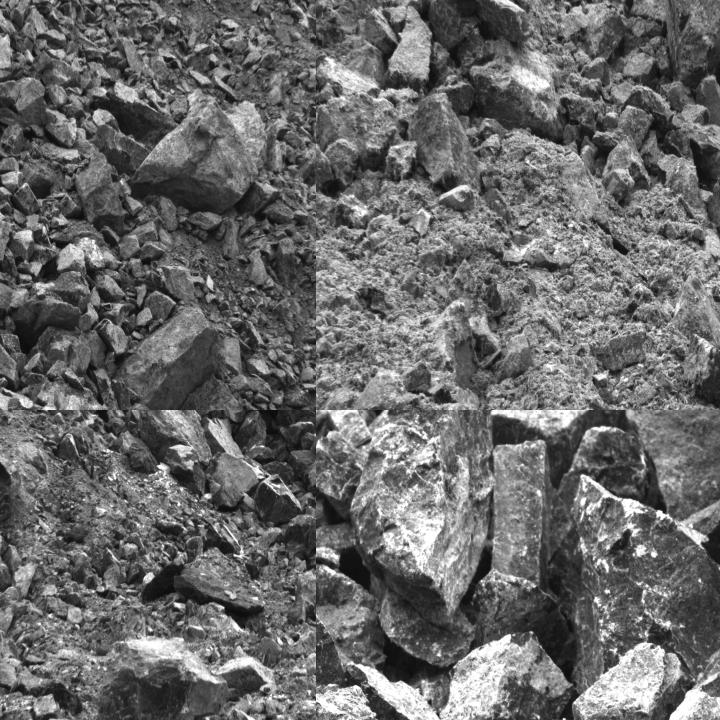stone: (559, 474, 719, 692), (349, 410, 499, 629), (131, 89, 266, 212), (438, 630, 578, 719), (94, 635, 232, 719), (112, 300, 216, 409), (469, 35, 564, 140), (571, 642, 698, 719), (491, 439, 550, 593), (409, 92, 481, 193), (408, 91, 481, 190), (316, 93, 403, 170), (178, 547, 266, 613), (663, 268, 719, 358), (316, 430, 370, 522), (666, 0, 719, 90), (660, 129, 708, 226), (138, 410, 211, 471), (74, 148, 126, 230), (386, 5, 432, 89), (206, 452, 266, 512), (91, 126, 151, 179), (349, 366, 418, 409), (582, 2, 629, 63), (682, 333, 719, 408), (478, 0, 539, 45), (682, 333, 719, 407), (427, 0, 479, 51), (252, 474, 303, 526), (429, 0, 482, 50), (34, 324, 89, 371), (182, 373, 253, 409), (162, 443, 207, 498), (603, 136, 650, 187), (624, 84, 676, 130), (30, 271, 90, 309), (598, 328, 648, 373), (235, 410, 277, 462), (324, 136, 361, 190), (358, 7, 399, 54), (434, 72, 474, 112), (13, 77, 47, 124), (618, 105, 653, 150), (286, 572, 315, 624), (160, 264, 197, 304), (284, 514, 315, 558), (74, 236, 108, 276), (0, 452, 20, 520), (695, 75, 719, 131), (437, 185, 485, 212), (482, 280, 514, 319), (316, 120, 333, 191), (95, 321, 129, 356), (0, 278, 28, 319), (42, 58, 80, 88), (602, 170, 638, 200), (384, 143, 413, 180), (0, 334, 19, 389), (8, 228, 36, 262), (46, 116, 77, 146), (56, 243, 86, 273), (95, 273, 126, 302), (0, 106, 31, 135), (144, 290, 176, 318), (630, 0, 667, 23), (582, 57, 610, 86), (130, 443, 157, 473), (13, 183, 39, 214), (0, 126, 26, 156), (186, 210, 223, 231), (288, 448, 315, 476), (44, 84, 70, 108), (139, 241, 168, 262), (0, 81, 21, 109), (58, 434, 79, 461), (0, 631, 19, 660), (0, 557, 12, 602), (0, 35, 13, 76), (302, 454, 315, 495), (118, 235, 140, 259), (31, 50, 52, 74), (7, 396, 35, 409)
